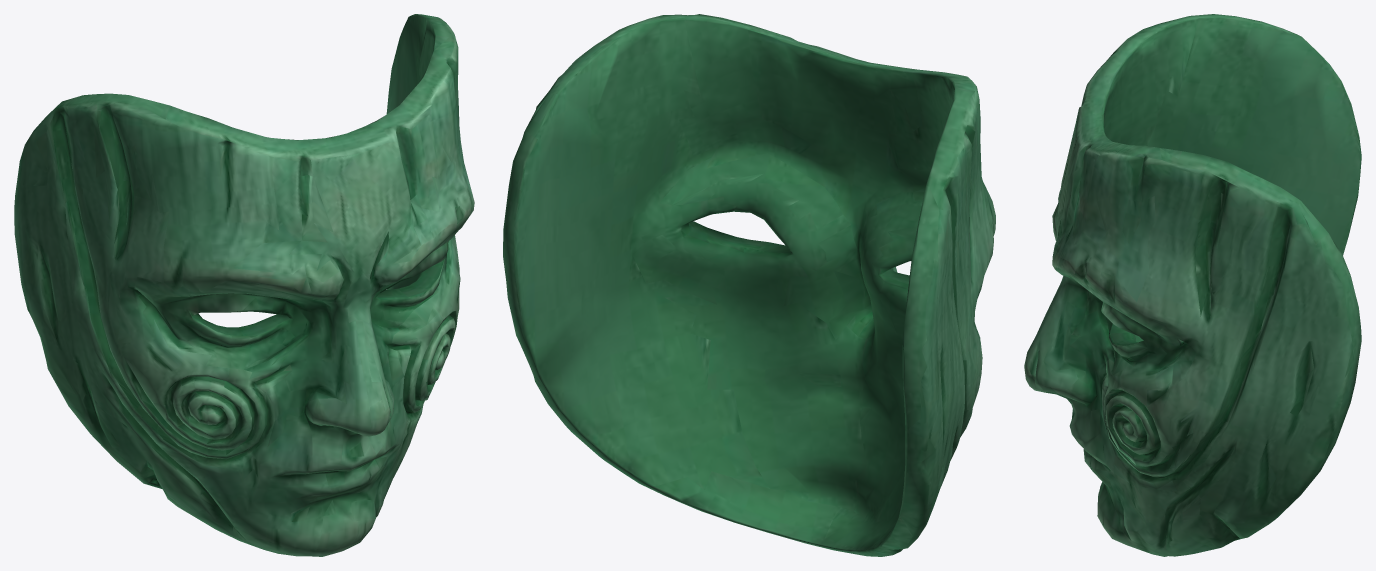
File: mask.glb
3 views of the same model, side by side, from view 1: azimuth 30°, elevation 25°; view 2: azimuth 150°, elevation 25°; view 3: azimuth 270°, elevation 25° (orthographic). The views are drawn at different scales.
Parts seen in each view (by area): view 1: green_mask; view 2: green_mask; view 3: green_mask.
Part boxes in pixels (x1,y1,x2,y2): green_mask: [14, 14, 474, 556]; green_mask: [503, 14, 995, 556]; green_mask: [1024, 14, 1361, 556].
Bounding box in the file's own units: 0.8672 × 0.978 × 0.6566.
1 material, 1 textured.
